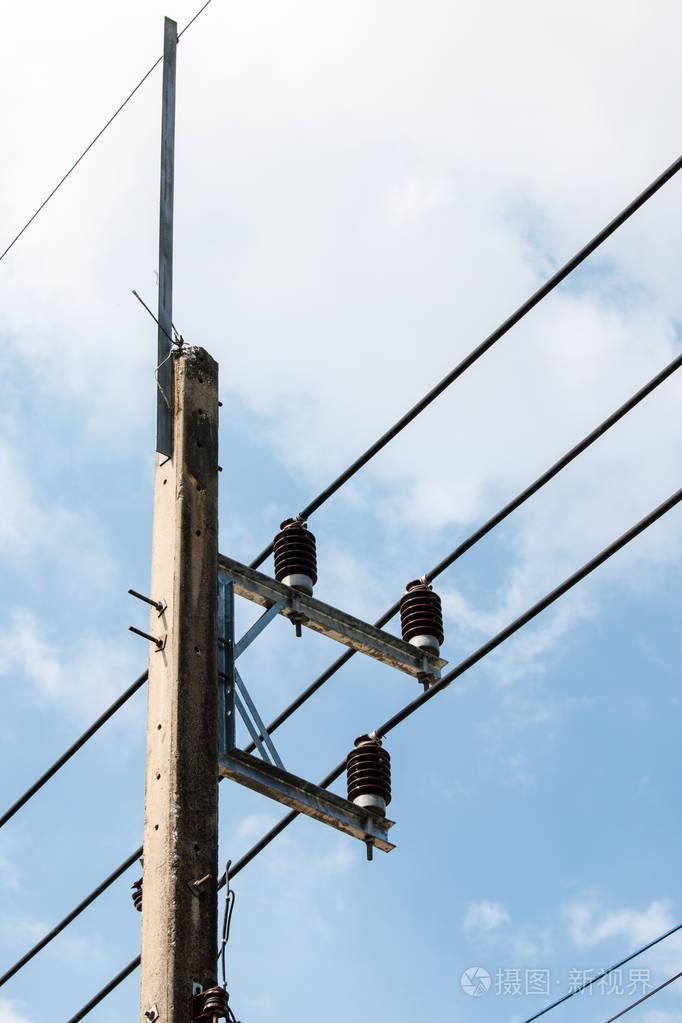insulator: (344, 745, 394, 801), (272, 525, 318, 584), (401, 589, 446, 646)
